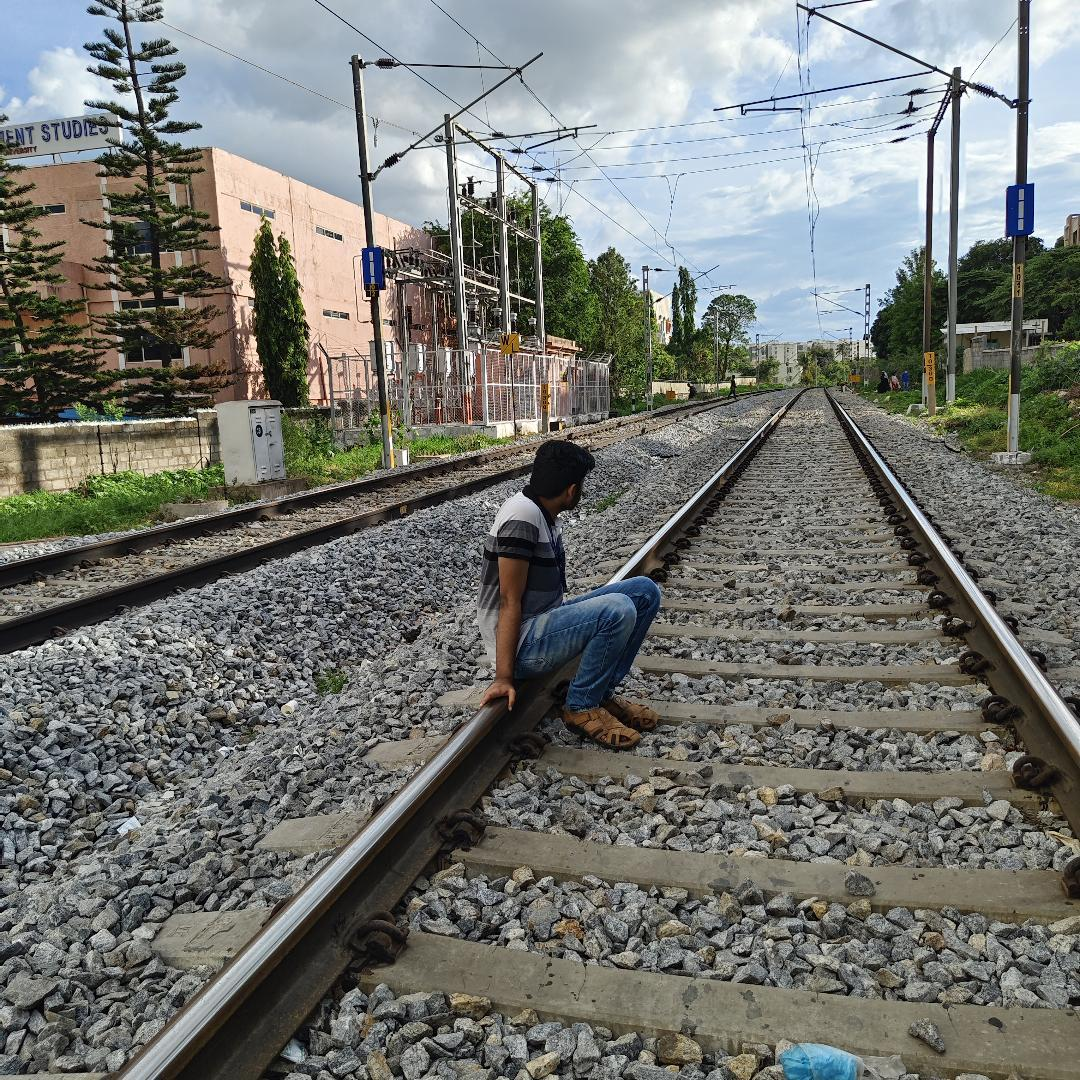sitting: (476, 440, 669, 764)
